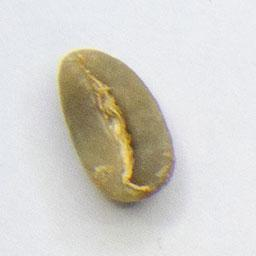longberry: (56, 47, 178, 207)
